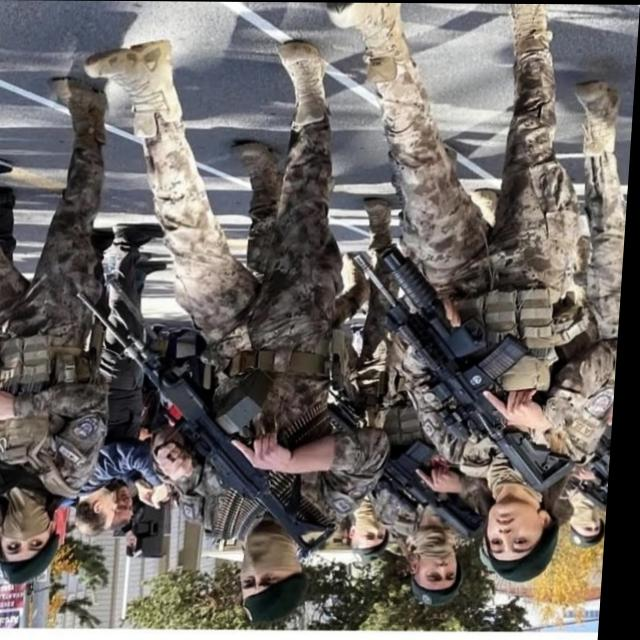poh_personel: (57, 40, 415, 622), (295, 2, 640, 583), (0, 77, 132, 582)
